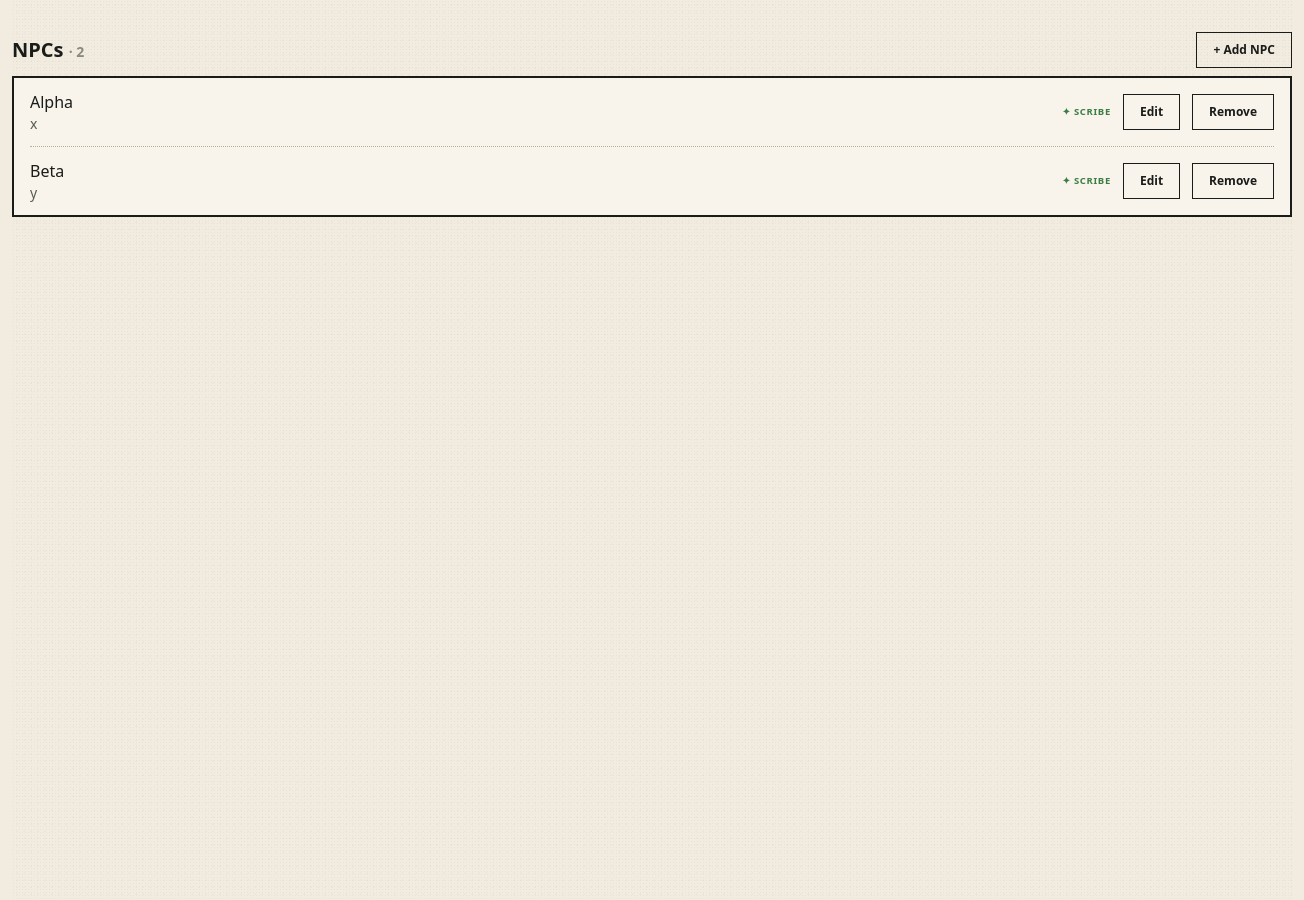
Test: EntitySection › keeps the edit form on the same item when an earlier item is removed
Click the button "Edit" in the row of "Beta": (1152, 181) [1123,163,1180,199]
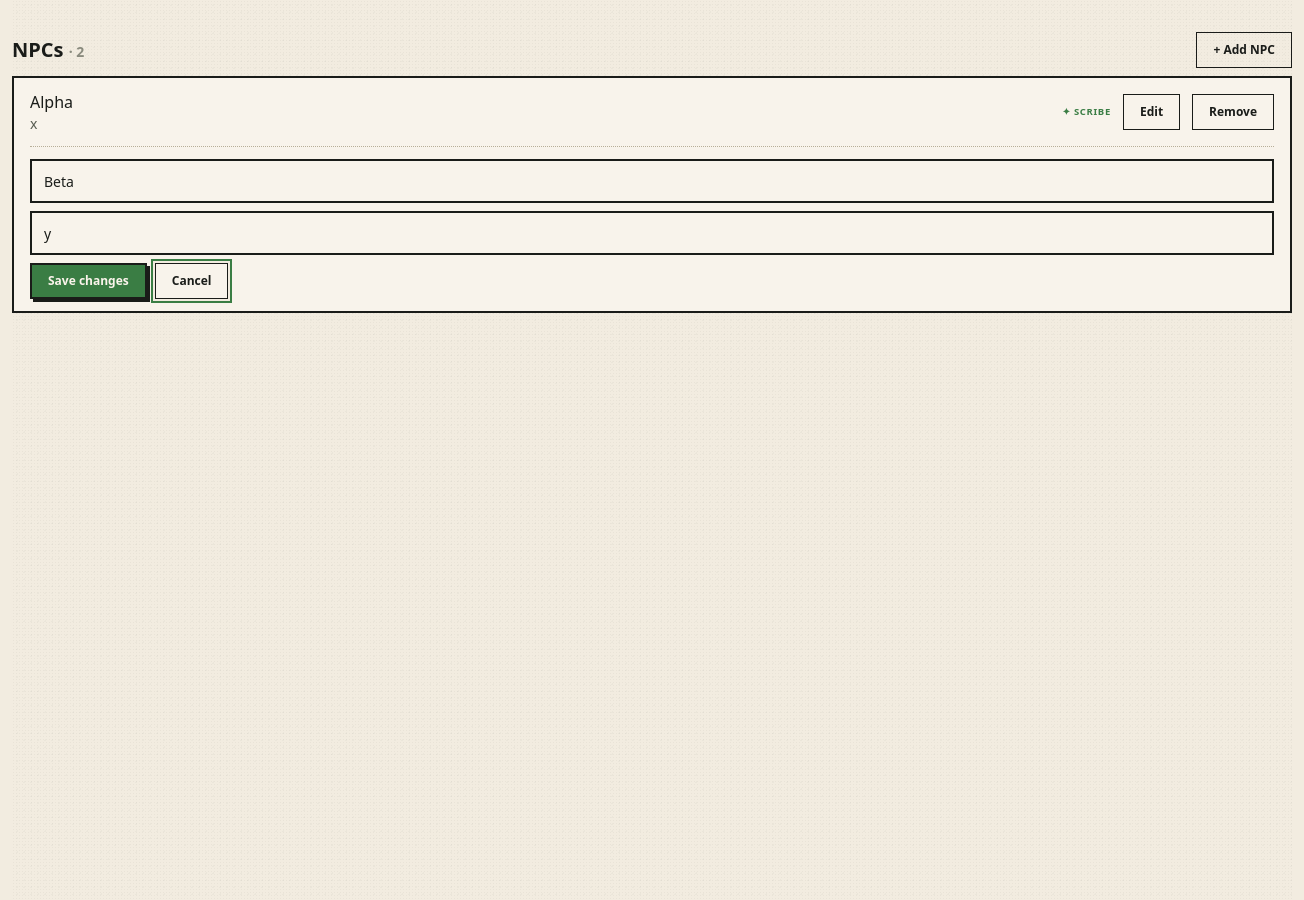
Click the button "Remove": (1233, 112) [1192,94,1274,130]
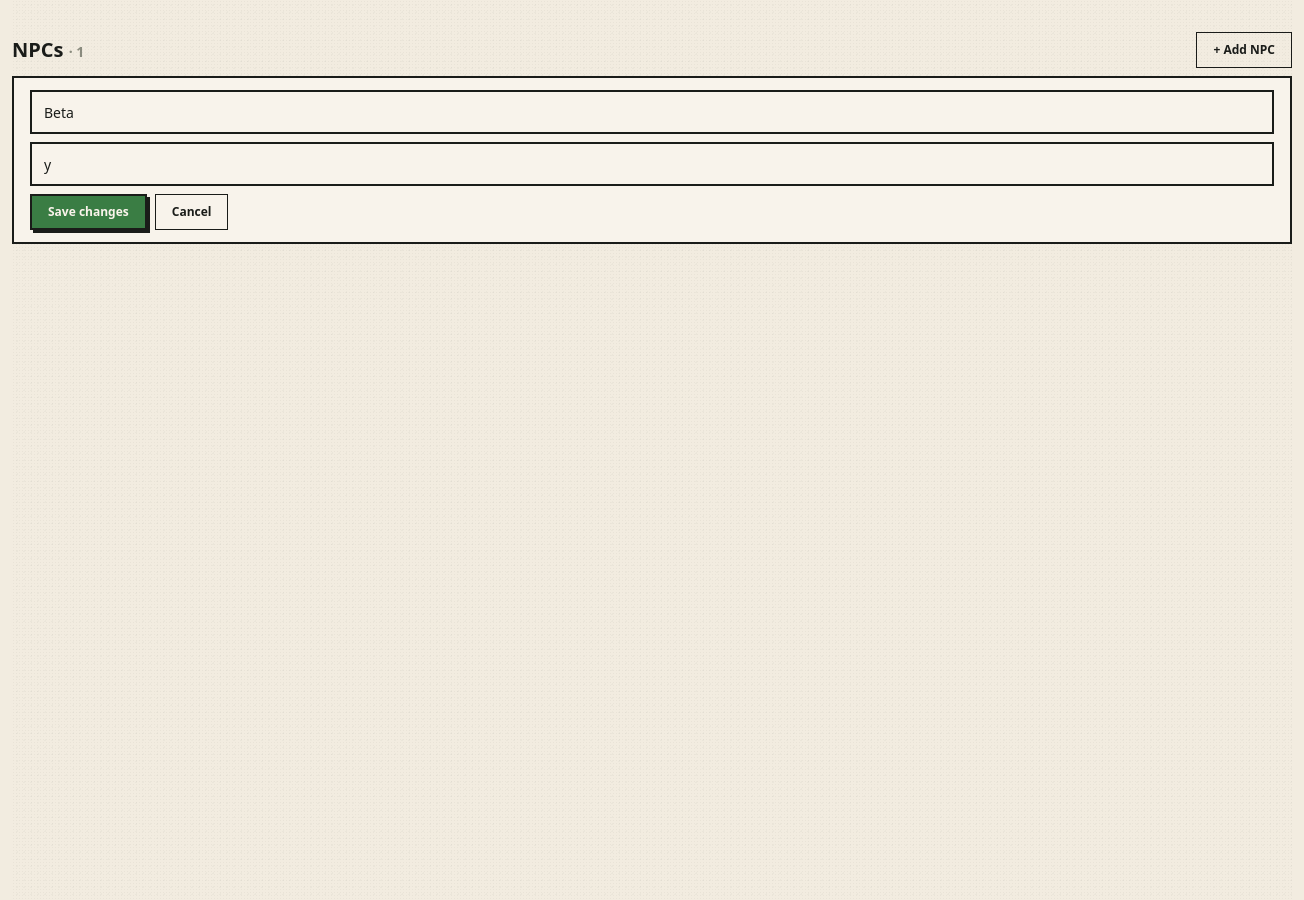
Note: The edit form must still target Beta, not a stale slot or Alpha.
Replace the text in the 1st field showing "Beta" with "Beta the Bold": (652, 112) [30,90,1274,134]
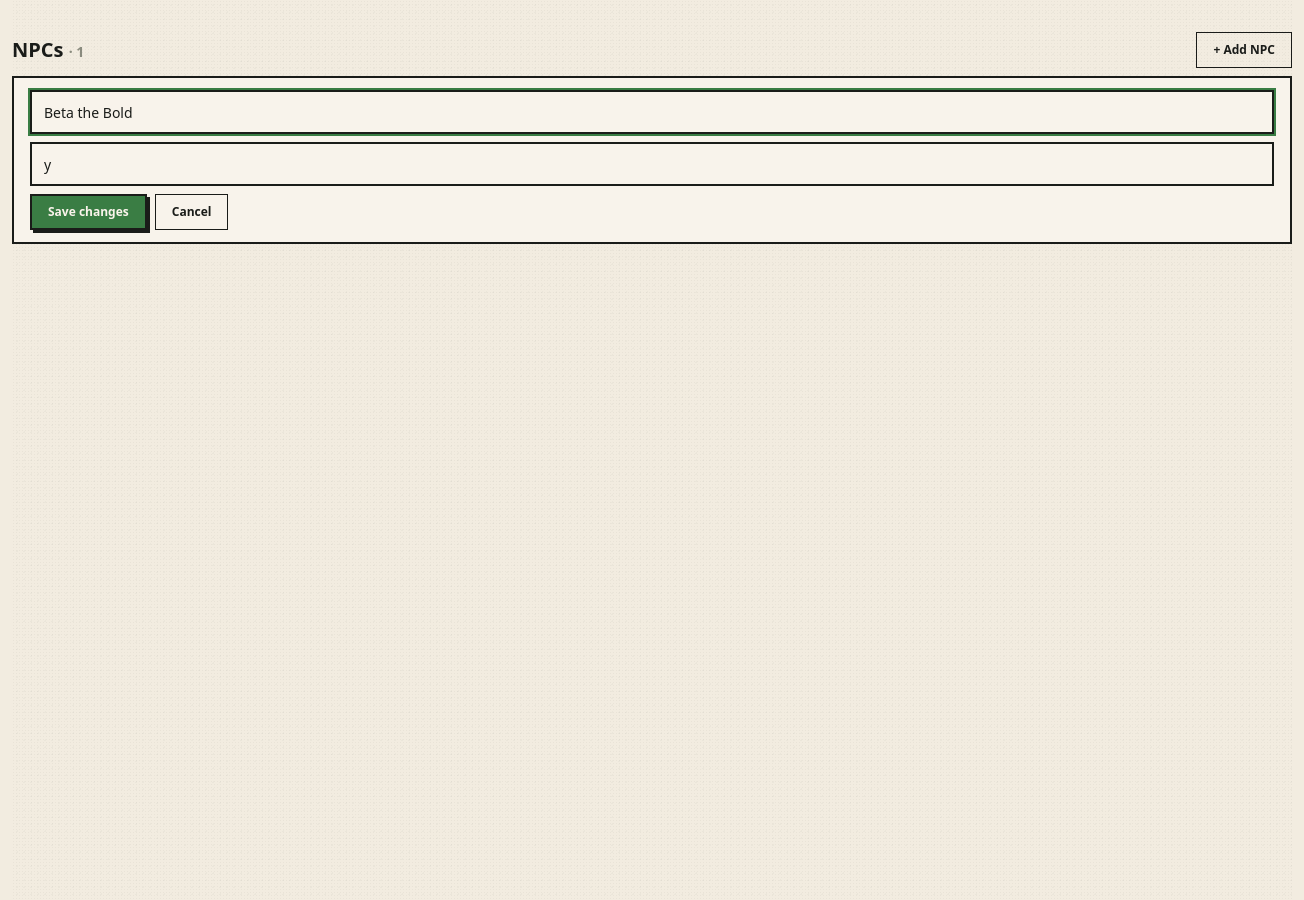
Click the button "Save changes": (88, 212) [30,194,147,230]
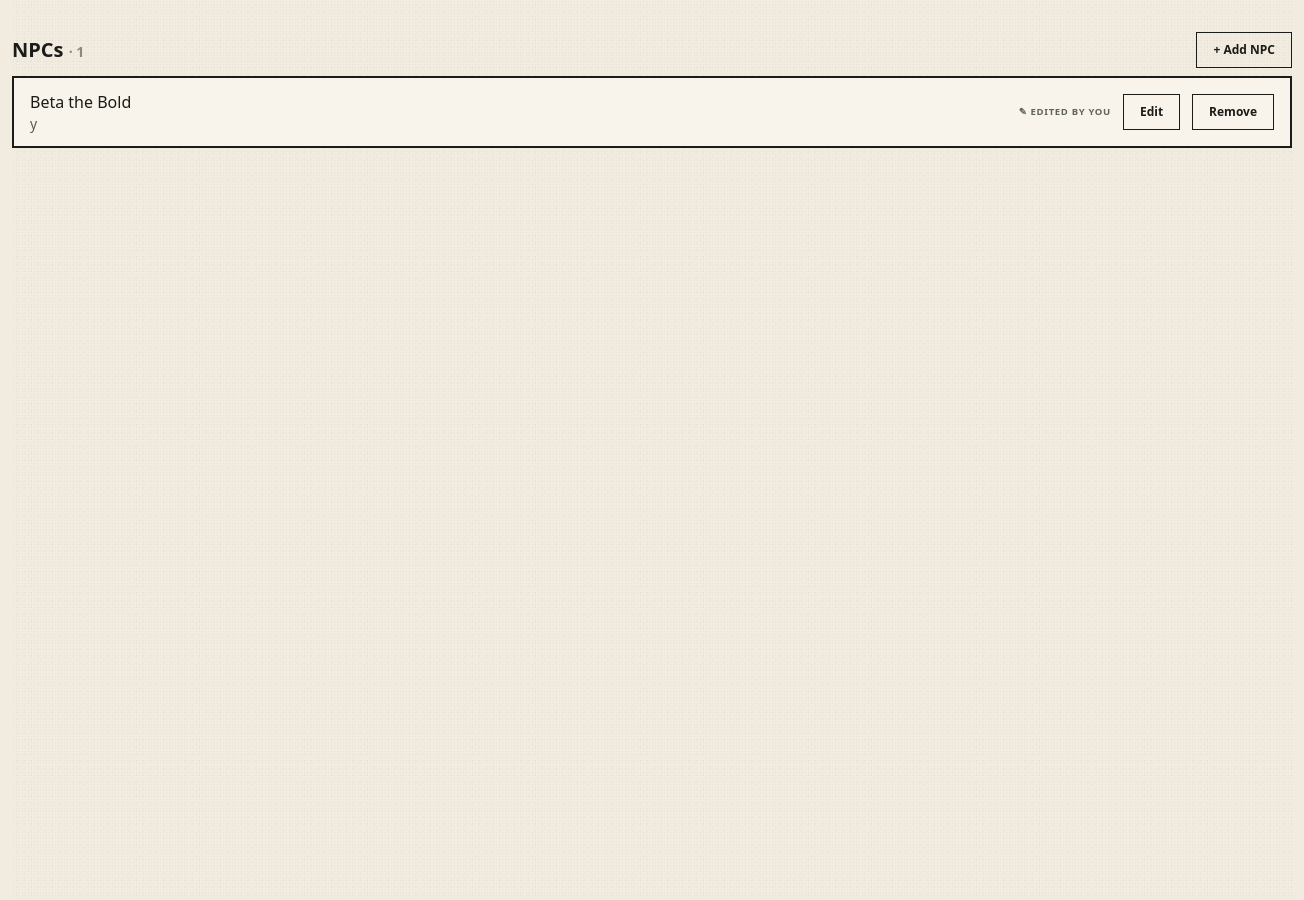
Expected: the text "Alpha" is not shown
Expected: the text "Beta the Bold" is shown, [30,90,131,114]
